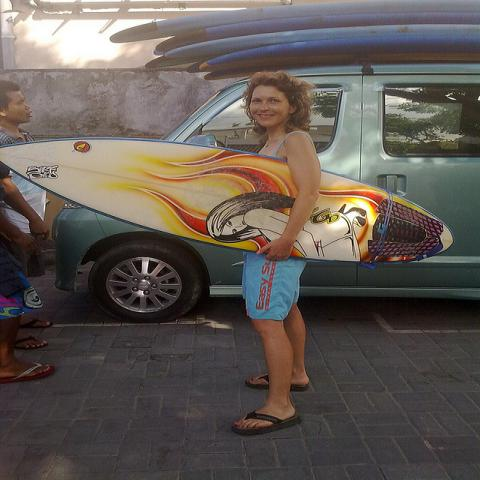car: (55, 60, 479, 326)
